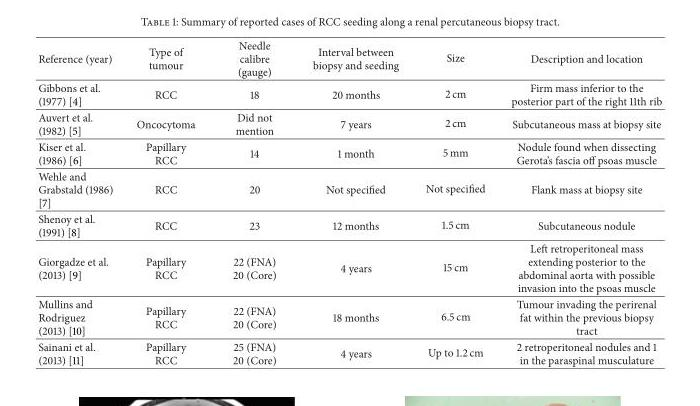table: (37, 37, 661, 367)
table column: (497, 37, 661, 367), (293, 37, 411, 367), (124, 37, 213, 367), (37, 37, 124, 367), (411, 37, 497, 367), (213, 37, 293, 367)
table column header: (37, 37, 661, 79)
table row: (37, 239, 661, 295), (37, 167, 661, 210), (37, 295, 661, 338), (37, 37, 661, 79), (37, 108, 661, 138), (37, 79, 661, 108), (37, 138, 661, 167), (37, 210, 661, 239), (37, 338, 661, 367)
